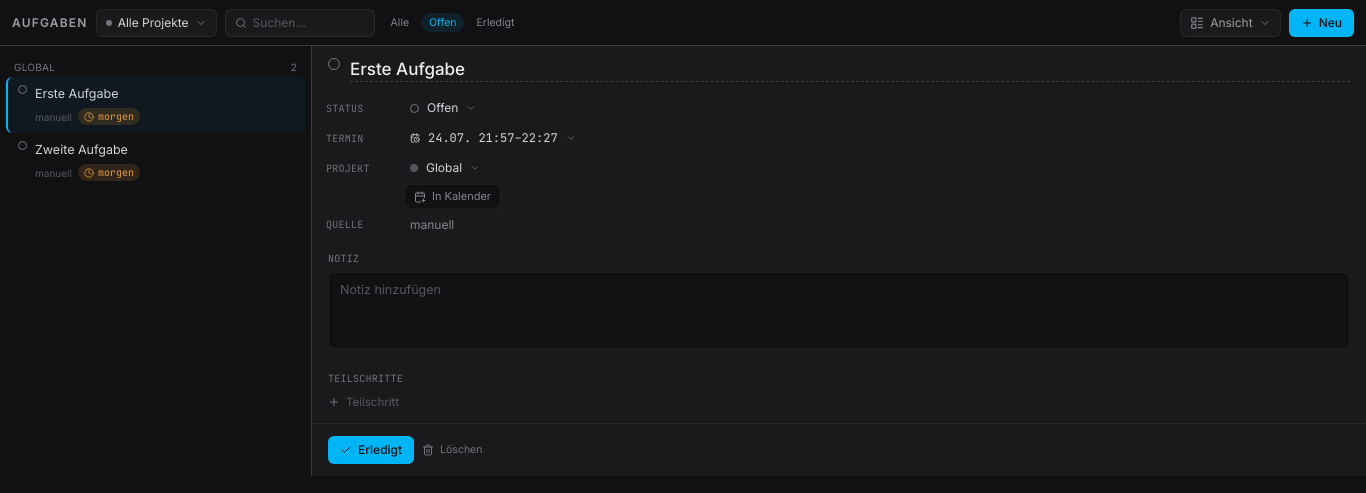
TasksView — with seeded tasks › renders a row and shows the detail pane when the row is clicked
The width and height of the screenshot is (1366, 493).
Check: the text "Erste Aufgabe" is shown, box [35,85,118,102]
Check: the field named "Aufgabentitel" holds "Erste Aufgabe", box [350,58,1350,82]
// Click the second row → the detail pane reflects the new selection.
What coordinates should you click on to do the following:
click the text "Zweite Aufgabe"
I would click on:
 (81, 150)
Its box is [35,141,128,158].
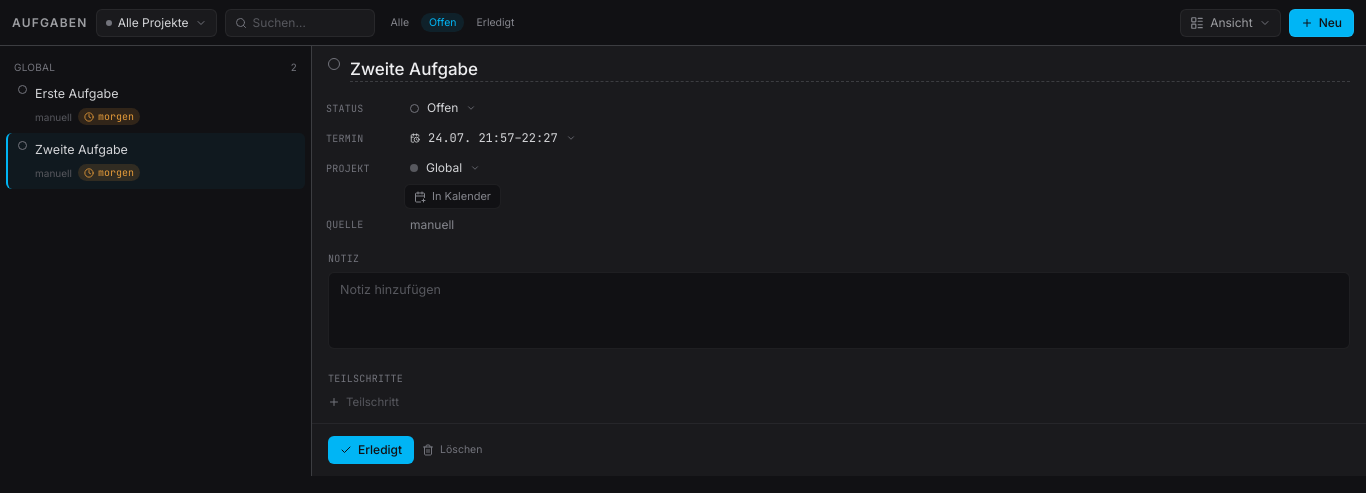
Check: the button "Löschen" is shown, box [422,442,482,458]
Check: the field named "Aufgabentitel" holds "Zweite Aufgabe", box [350,58,1350,82]
